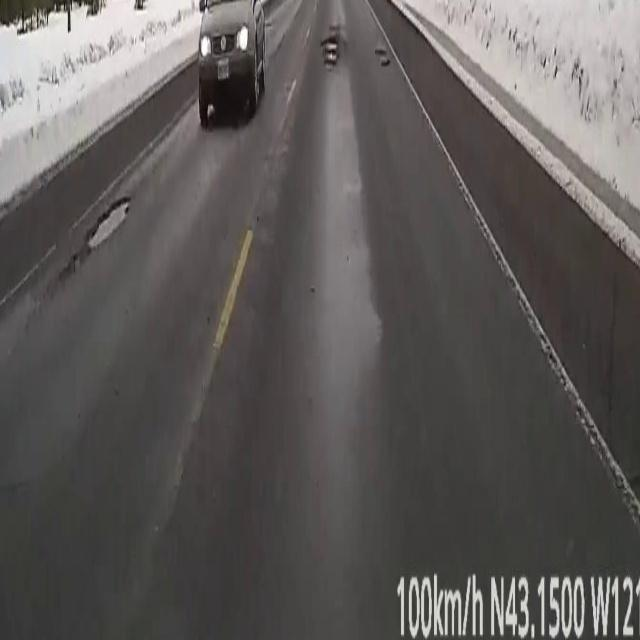pothole: (87, 195, 131, 244), (321, 36, 339, 72), (373, 46, 391, 69)
